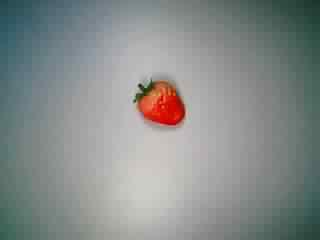strawberry: (121, 72, 194, 139)
